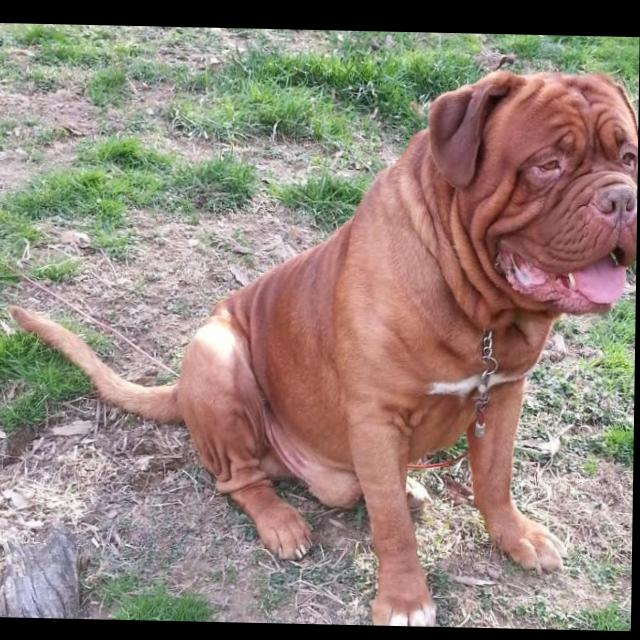dogue_de_bordeaux: (6, 56, 640, 629)
